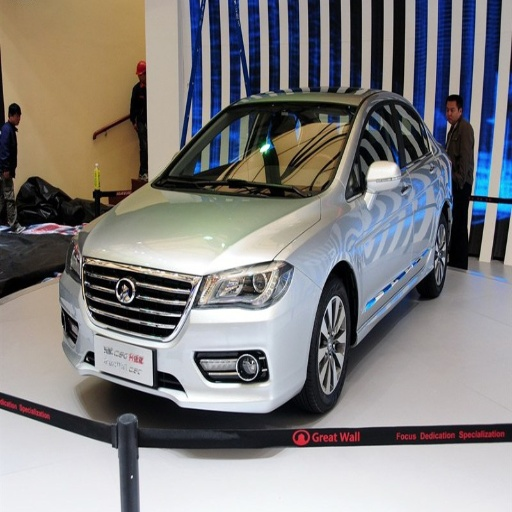front_bumper: (61, 255, 320, 430)
front_glass: (153, 104, 351, 195)
front_left_door: (350, 98, 412, 312)
